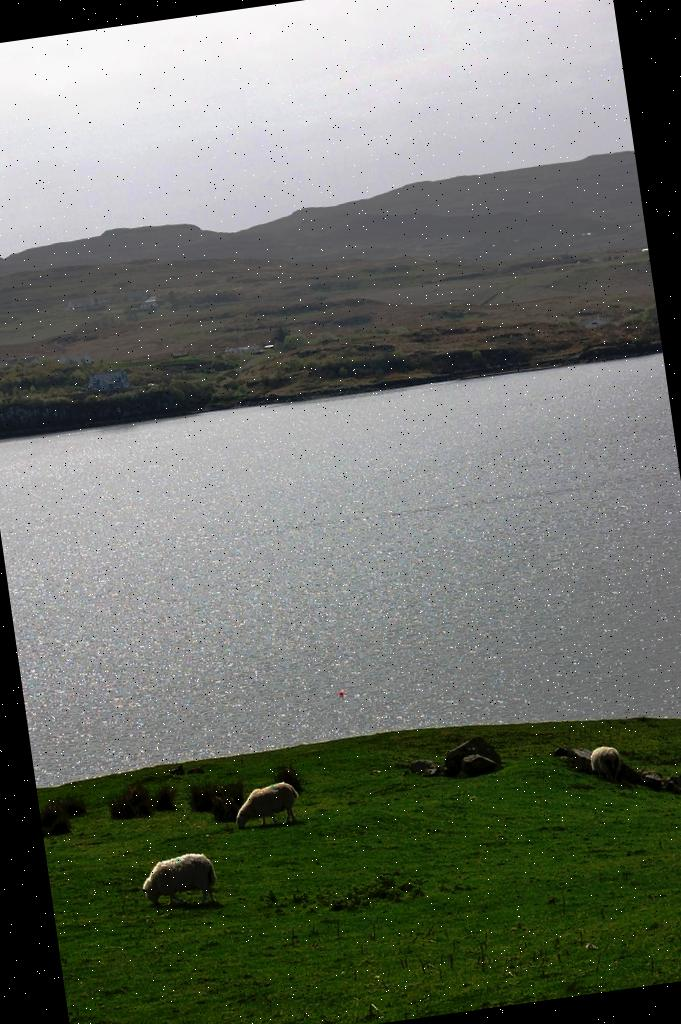Sheep: (138, 849, 218, 917), (234, 783, 302, 836), (587, 745, 621, 780)
